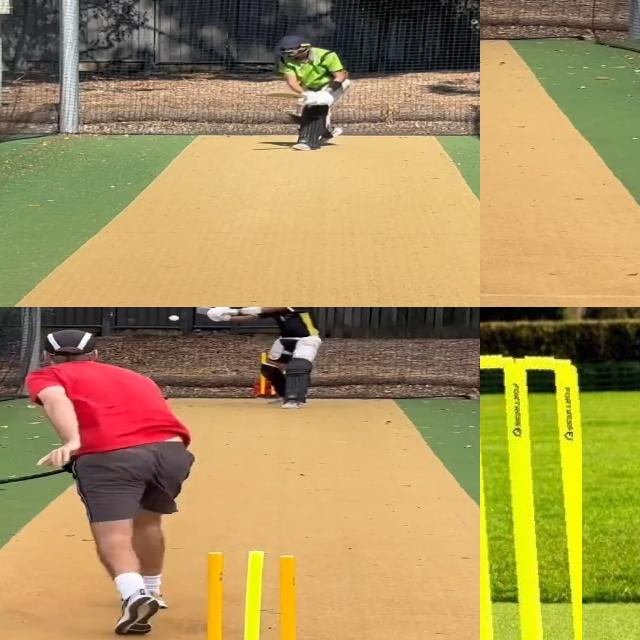Cricket ball: (168, 315, 182, 323)
Stumps: (480, 351, 582, 640), (195, 545, 310, 640)
